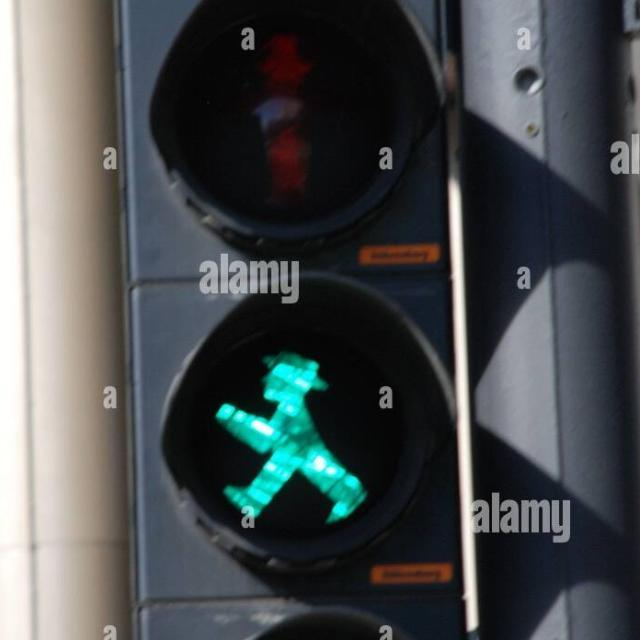green_light: (205, 332, 369, 508)
